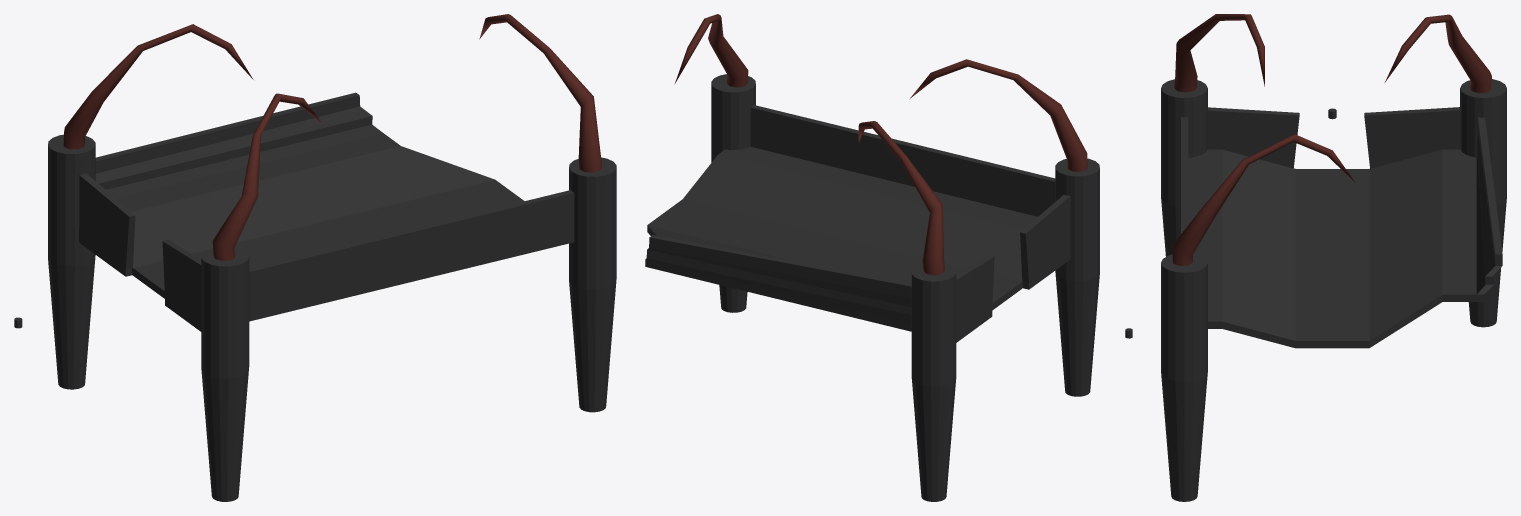
The model's file is SpineBUILDING.fbx.
3 views of the same model, side by side, from view 1: azimuth 30°, elevation 25°; view 2: azimuth 150°, elevation 25°; view 3: azimuth 270°, elevation 25° (orthographic). The views are drawn at different scales.
Parts seen in each view (by area): view 1: Cube; view 2: Cube; view 3: Cube.
Boxes of the visible parts, left/top/right/bottom form: Cube: left=14, top=14, right=616, bottom=501; Cube: left=645, top=14, right=1132, bottom=501; Cube: left=1161, top=14, right=1506, bottom=501.
Bounding box in the file's own units: 14486 × 9472 × 8523.
